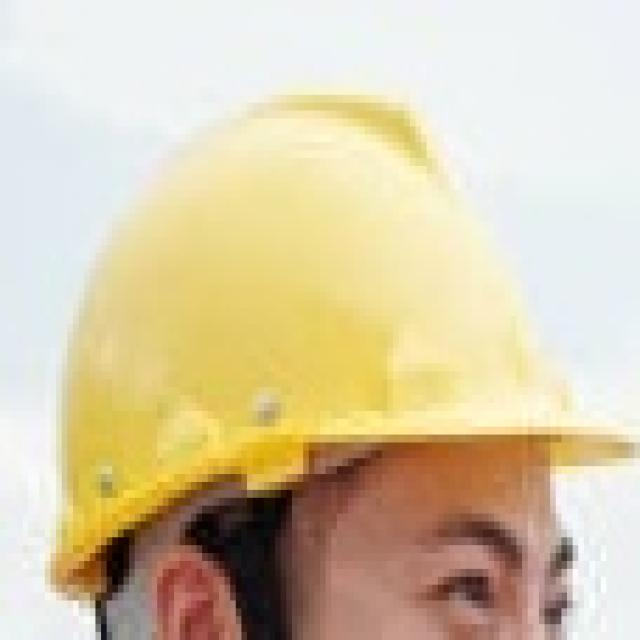helmet_yellow: (3, 4, 637, 636)
